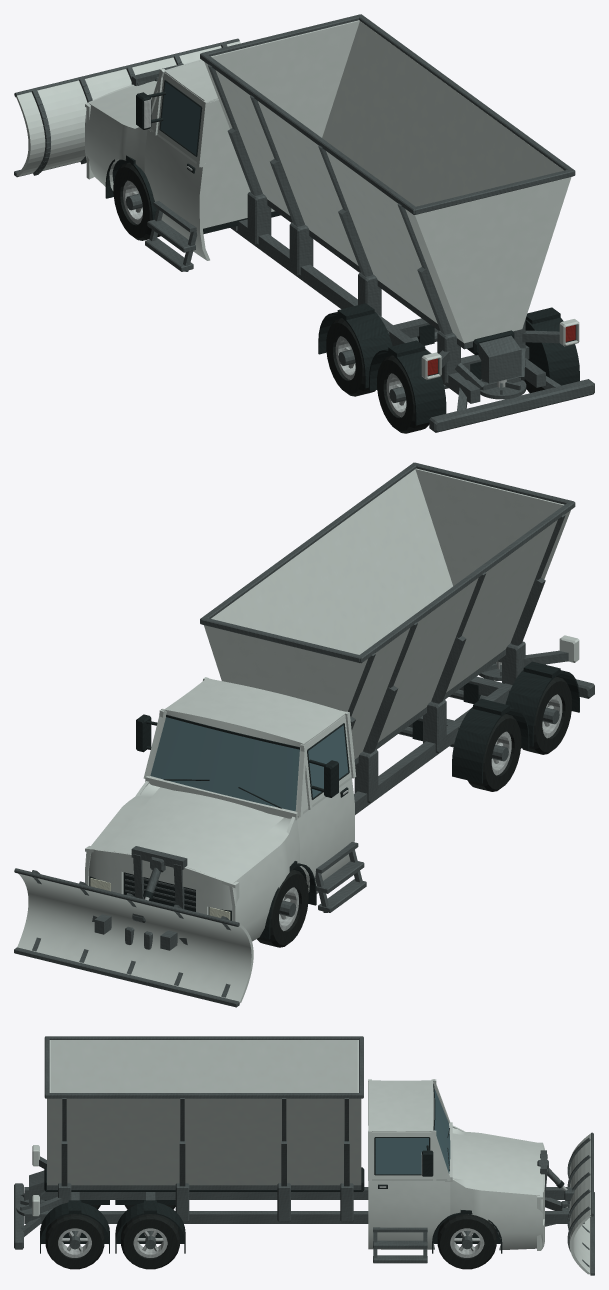
3 views of the same model, one above another, from view 1: azimuth 30°, elevation 25°; view 2: azimuth 150°, elevation 25°; view 3: azimuth 270°, elevation 25° (orthographic). The views are drawn at different scales.
Parts seen in each view (by area): view 1: B029-06_equipment_paint, B029-06_equipment_steel, B029-06_body_shell_paint, B029-06_mount_steel, B029-06_wheelwell_dark, B029-06_chassis_steel, B029-06_door_leaf_paint_work_cab_door-1, B029-06_bumper_steel, B029-06_door_leaf_glass_work_cab_door-1, B029-06_wheel_rubber_P-1.0150_-3.9500_0.5100, B029-06_wheel_rubber_P-1.0150_-2.6500_0.5100, B029-06_steps_steel (+5 smaller); view 2: B029-06_equipment_paint, B029-06_body_shell_paint, B029-06_equipment_steel, B029-06_glazing_glass, B029-06_roof_paint, B029-06_mount_steel, B029-06_wheelwell_dark, B029-06_door_leaf_paint_work_cab_door-1, B029-06_chassis_steel, B029-06_wheel_rubber_P-1.0150_-2.6500_0.5100, B029-06_wheel_rubber_P-1.0150_2.8000_0.5100, B029-06_wheel_rubber_P-1.0150_-3.9500_0.5100 (+6 smaller); view 3: B029-06_equipment_paint, B029-06_body_shell_paint, B029-06_equipment_steel, B029-06_chassis_steel, B029-06_door_leaf_paint_work_cab_door1, B029-06_mount_steel, B029-06_roof_paint, B029-06_wheelwell_dark, B029-06_wheel_rubber_P1.0150_-3.9500_0.5100, B029-06_wheel_rubber_P1.0150_-2.6500_0.5100, B029-06_wheel_rubber_P1.0150_2.8000_0.5100, B029-06_door_leaf_glass_work_cab_door1 (+11 smaller).
Boxes of the visible parts, x1,y1,x2,y2 form: B029-06_equipment_paint: (16,20,579,379); B029-06_equipment_steel: (14,14,575,399); B029-06_body_shell_paint: (85,59,274,260); B029-06_mount_steel: (155,76,568,410); B029-06_wheelwell_dark: (105,159,579,425); B029-06_chassis_steel: (230,219,545,403); B029-06_door_leaf_paint_work_cab_door-1: (155,72,204,258); B029-06_bumper_steel: (429,379,594,432); B029-06_door_leaf_glass_work_cab_door-1: (161,82,200,154); B029-06_wheel_rubber_P-1.0150_-3.9500_0.5100: (377,355,429,433); B029-06_wheel_rubber_P-1.0150_-2.6500_0.5100: (326,318,375,396); B029-06_steps_steel: (145,208,197,271); B029-06_equipment_paint: (17,468,579,1003); B029-06_body_shell_paint: (85,677,356,941); B029-06_equipment_steel: (14,462,575,1007); B029-06_glazing_glass: (150,717,299,811); B029-06_roof_paint: (165,678,346,743); B029-06_mount_steel: (132,578,568,922); B029-06_wheelwell_dark: (260,670,579,939); B029-06_door_leaf_paint_work_cab_door-1: (306,715,353,893); B029-06_chassis_steel: (94,664,545,950); B029-06_wheel_rubber_P-1.0150_-2.6500_0.5100: (467,713,521,791); B029-06_wheel_rubber_P-1.0150_2.8000_0.5100: (257,869,308,947); B029-06_wheel_rubber_P-1.0150_-3.9500_0.5100: (522,676,571,754); B029-06_equipment_paint: (32,1040,590,1274); B029-06_body_shell_paint: (368,1079,544,1250); B029-06_equipment_steel: (16,1036,594,1275); B029-06_chassis_steel: (24,1187,584,1223); B029-06_door_leaf_paint_work_cab_door1: (371,1132,433,1249); B029-06_mount_steel: (21,1140,574,1236); B029-06_roof_paint: (369,1080,432,1131); B029-06_wheelwell_dark: (40,1200,502,1253); B029-06_wheel_rubber_P1.0150_-3.9500_0.5100: (45,1214,104,1269); B029-06_wheel_rubber_P1.0150_-2.6500_0.5100: (121,1214,179,1269); B029-06_wheel_rubber_P1.0150_2.8000_0.5100: (437,1214,496,1269); B029-06_door_leaf_glass_work_cab_door1: (375,1138,428,1174).
Size of the model in its own units: 3.3 by 3.35 by 10.
Materials: 9 (9 with a texture image).
